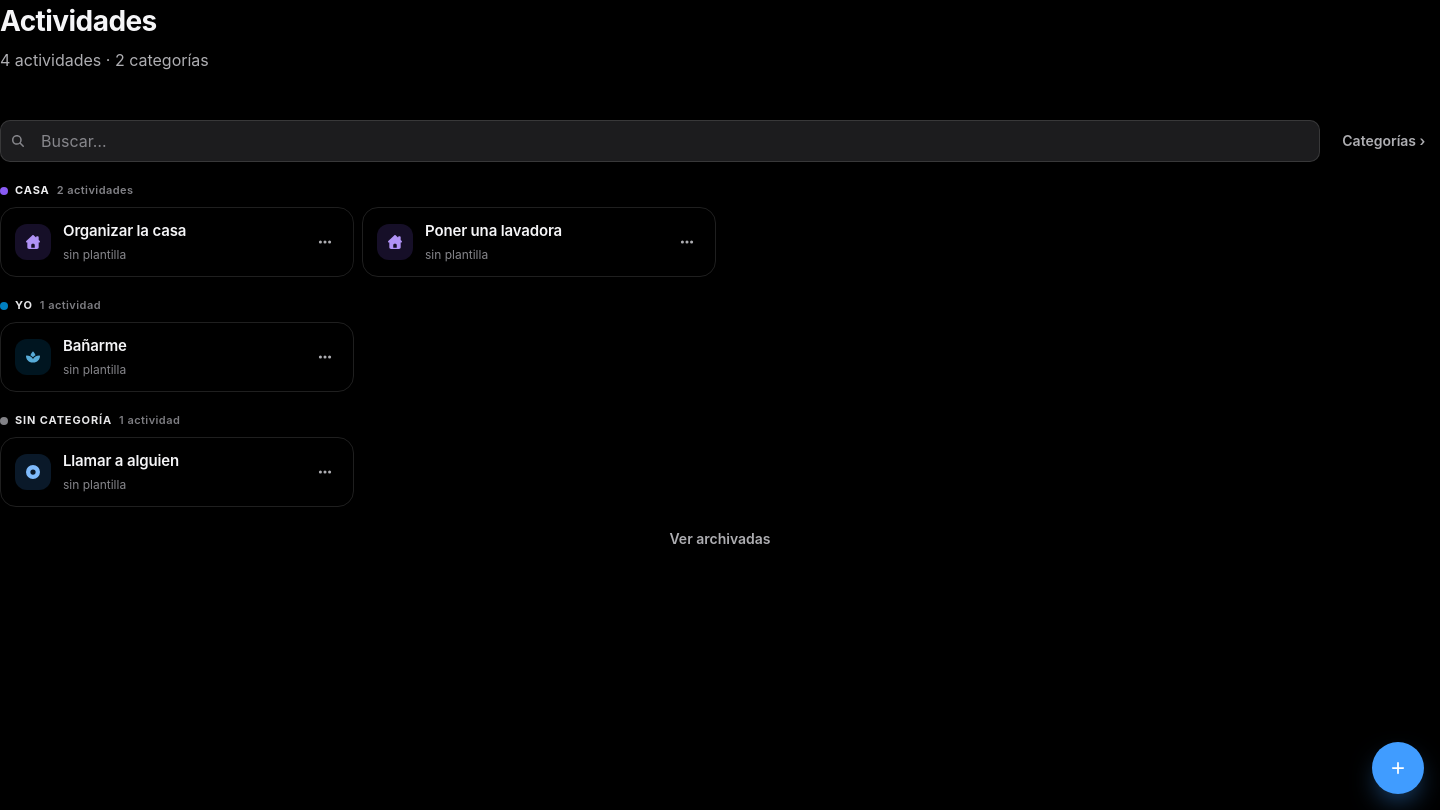
VidaActividadesPage › el FAB «+» abre la hoja de crear, vacía (criterios 12 y 13)
Click the 5th button named "Nueva actividad": x=1398, y=768 [1372,742,1424,794]
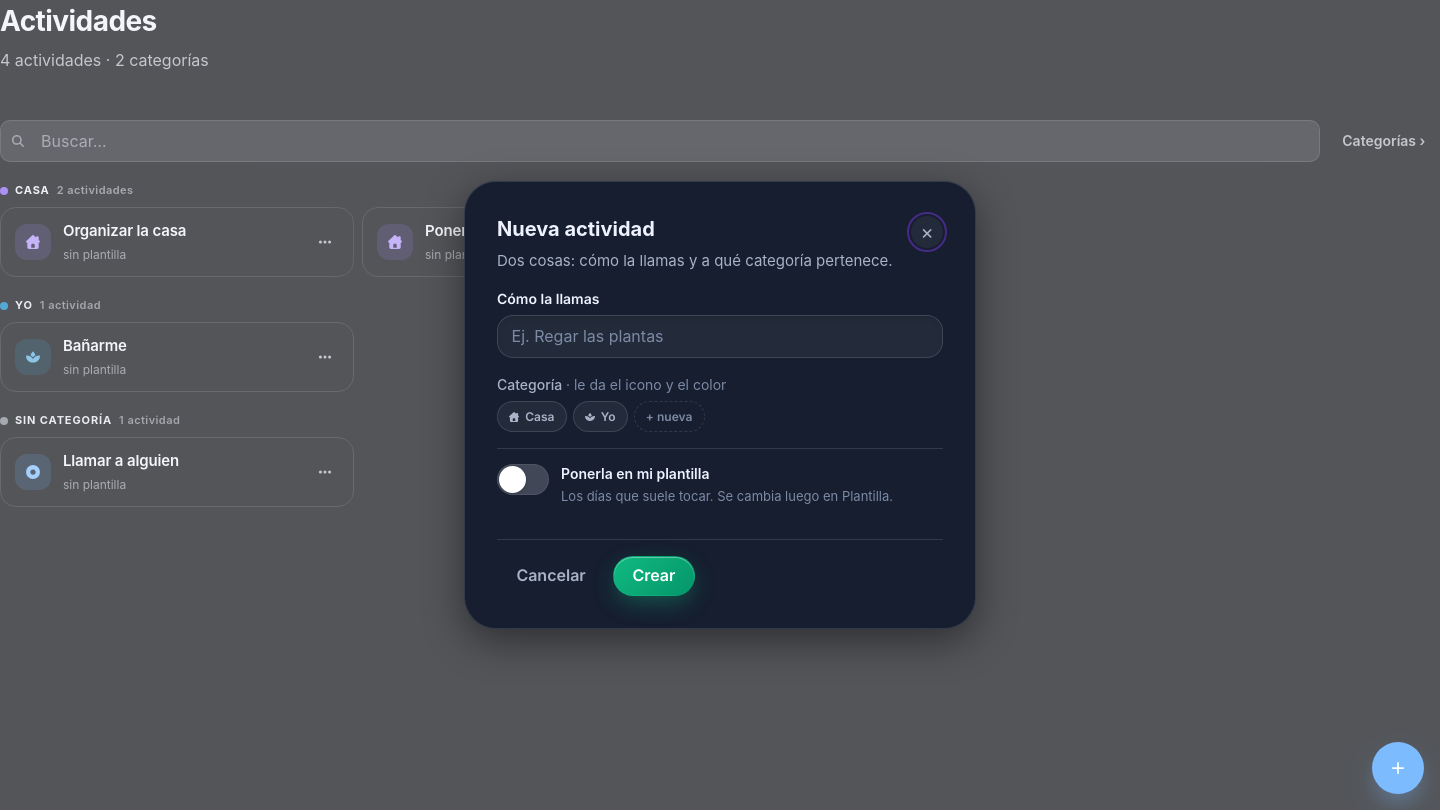
Check: the heading "Nueva actividad" is shown, box [497,217,655,241]
Check: the field labelled "Cómo la llamas" is empty, box [497,315,943,358]
